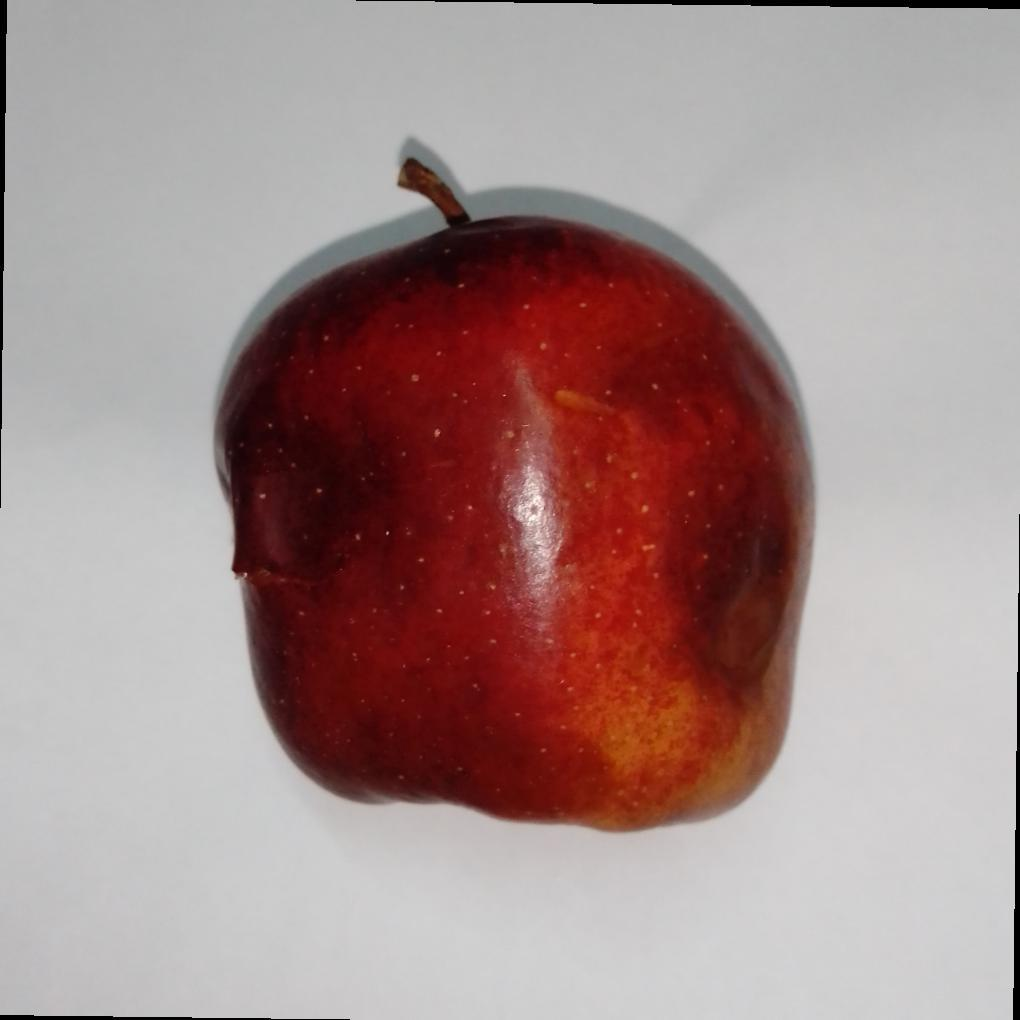FreshOrange: (213, 142, 820, 837)
